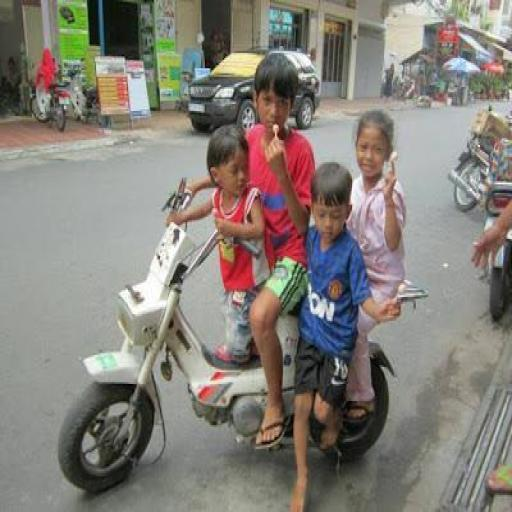no helmet: (231, 50, 318, 153)
triple riding: (52, 42, 414, 500)
